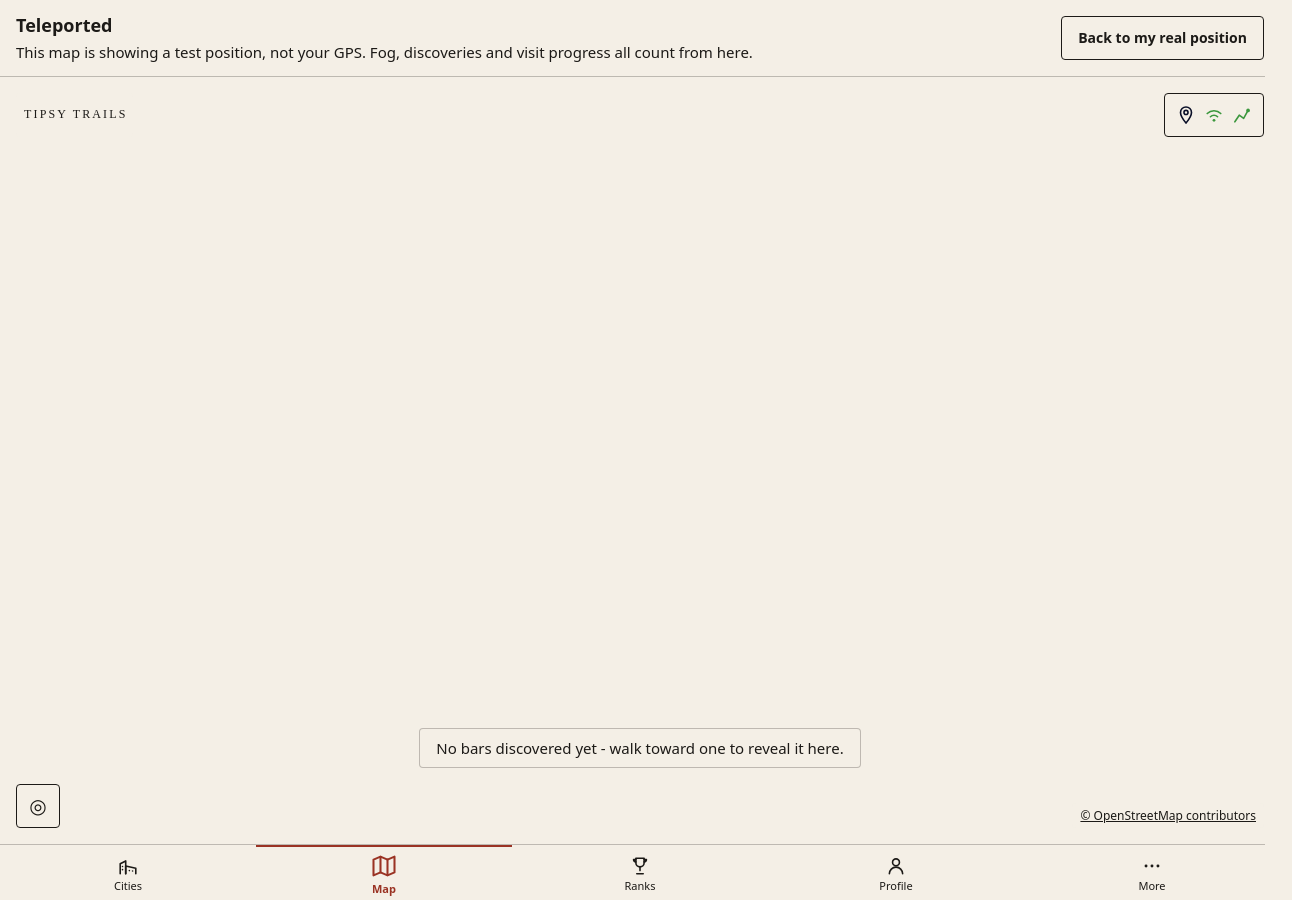
Scenario: leaving the mode (SPEC.md Section 9.3) › sends the DELETE, drops the banner and starts watching GPS again
Step 1. Click the button with class "map-teleport__leave" → (1163, 38), box [1061,16,1264,60]
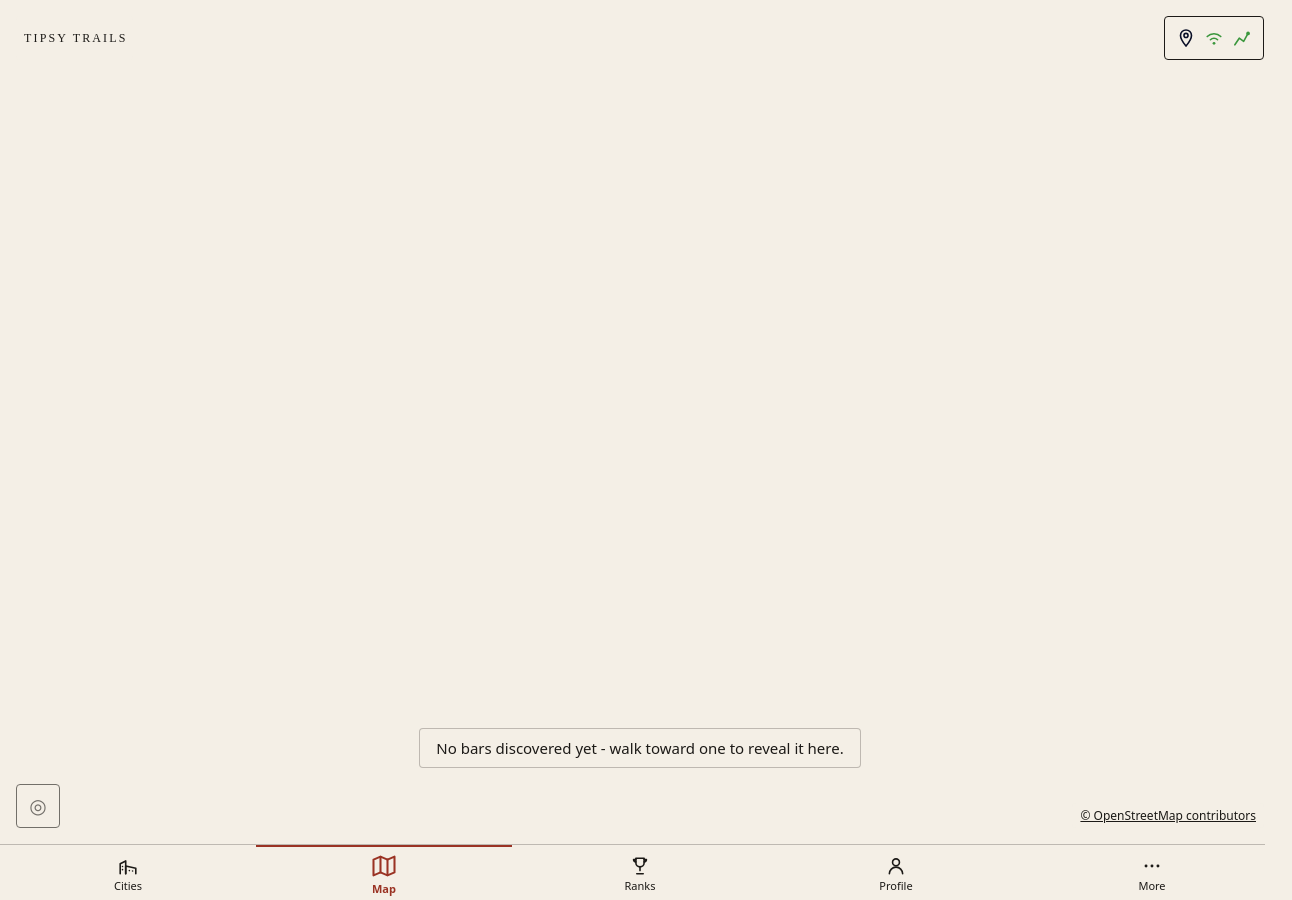
Expected: the message with class "map-teleport" is gone
